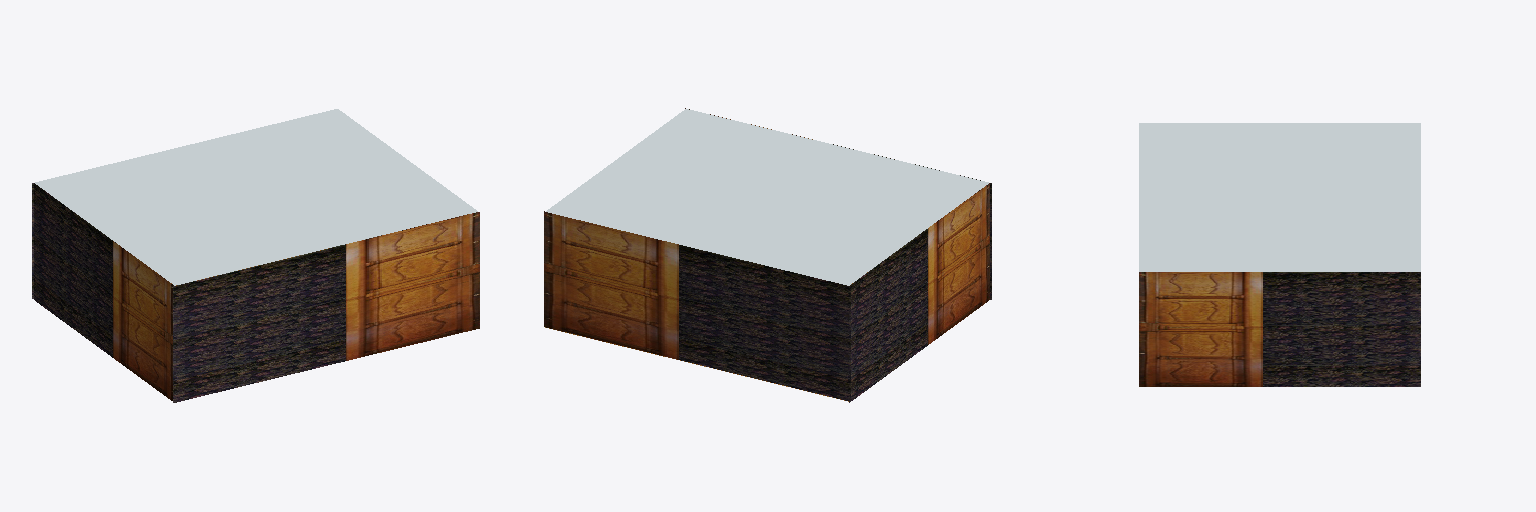
3 renders of one model, left to right at view 1: azimuth 30°, elevation 25°; view 2: azimuth 150°, elevation 25°; view 3: azimuth 270°, elevation 25°, orthographic.
Visible parts, largest first — view 1: TableLamp.001_Cylinder.013; view 2: TableLamp.001_Cylinder.013; view 3: TableLamp.001_Cylinder.013.
Part boxes in pixels (x1,y1,x2,y2): TableLamp.001_Cylinder.013: (32,109,479,402); TableLamp.001_Cylinder.013: (544,108,991,402); TableLamp.001_Cylinder.013: (1139,123,1420,386).
Size of the model in its own units: 154 by 56.32 by 123.
Materials: 16 (13 with a texture image).